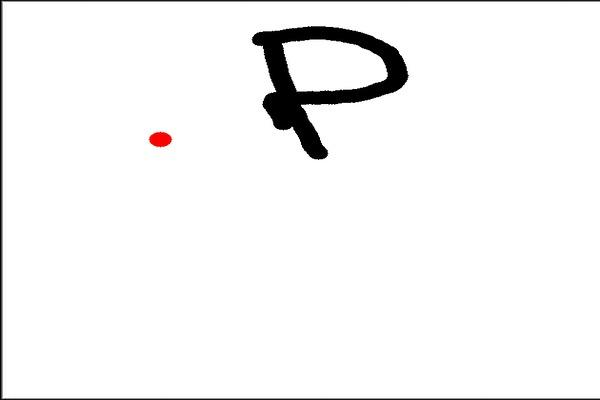P: (247, 15, 419, 172)
